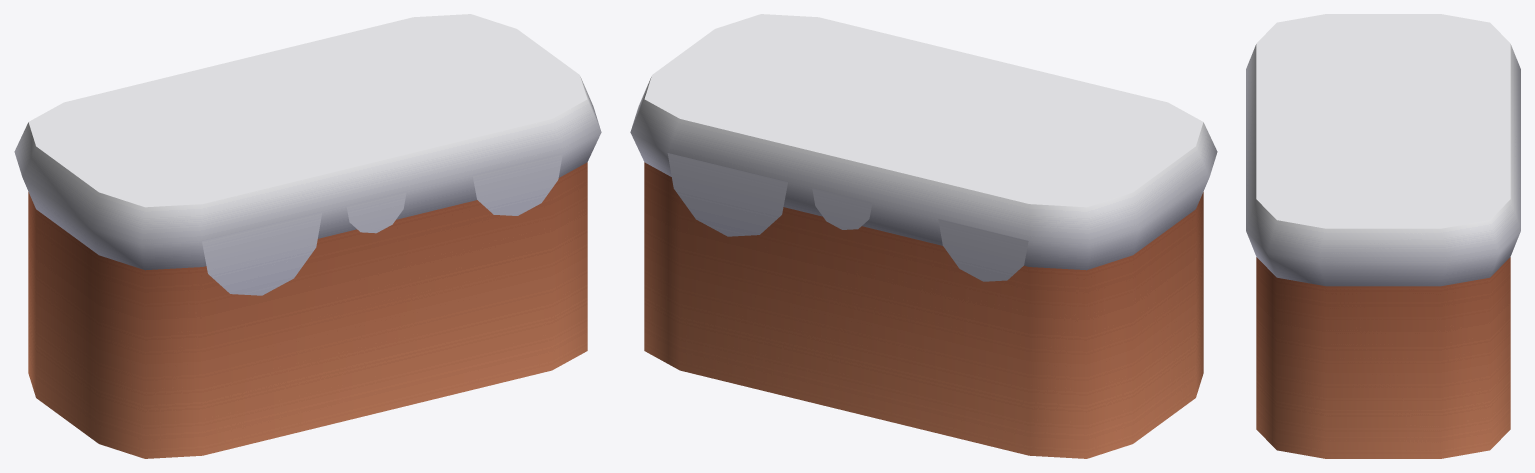
Rendered from block-snow-overhang-long.glb.
3 renders of one model, left to right at view 1: azimuth 30°, elevation 25°; view 2: azimuth 150°, elevation 25°; view 3: azimuth 270°, elevation 25°, orthographic. The views are drawn at different scales.
Visible parts, largest first — view 1: block-snow-overhang-long; view 2: block-snow-overhang-long; view 3: block-snow-overhang-long.
Part boxes in pixels (bbox=[...]): block-snow-overhang-long: bbox=[14, 14, 601, 458]; block-snow-overhang-long: bbox=[630, 14, 1217, 458]; block-snow-overhang-long: bbox=[1246, 14, 1520, 458].
Size of the model in its own units: 2.08 by 1 by 1.08.
1 material, 1 textured.
